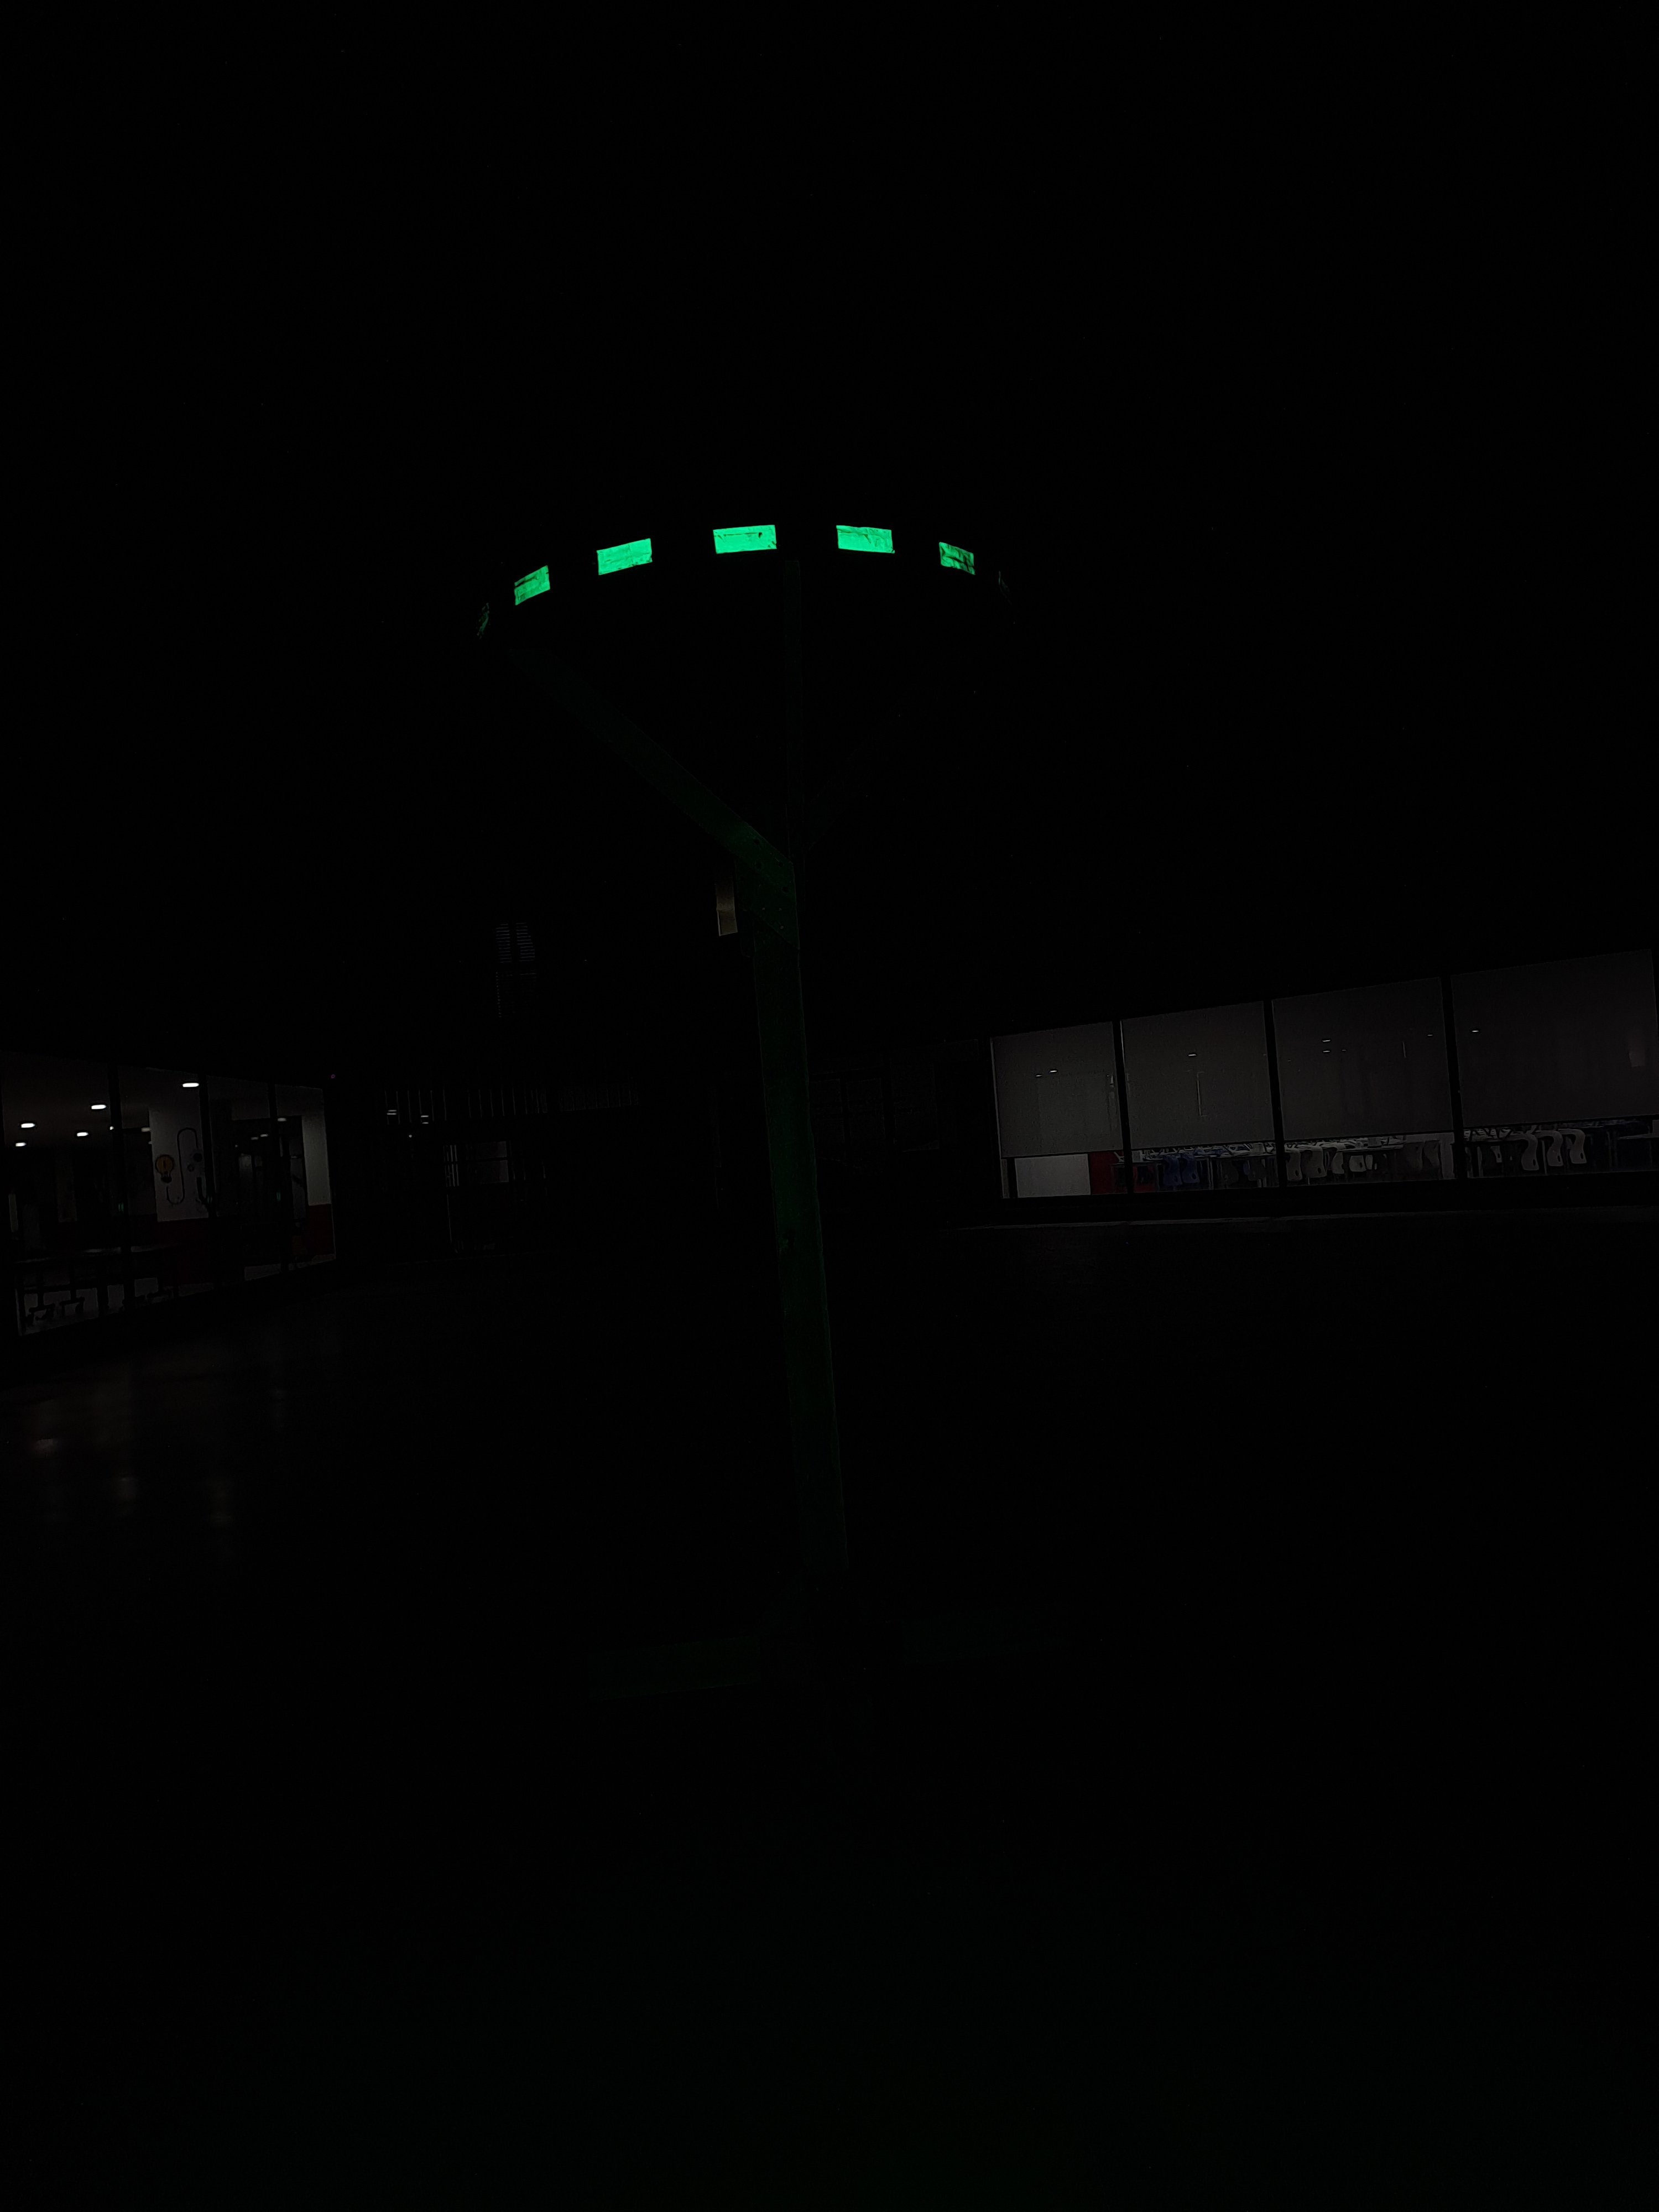hoop: (507, 517, 983, 618)
